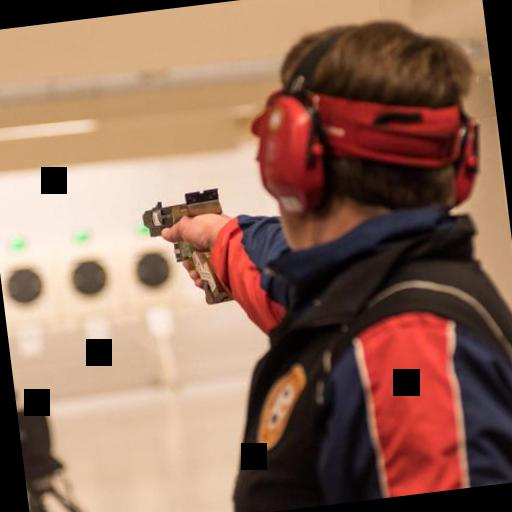Handgun: (134, 182, 242, 316)
